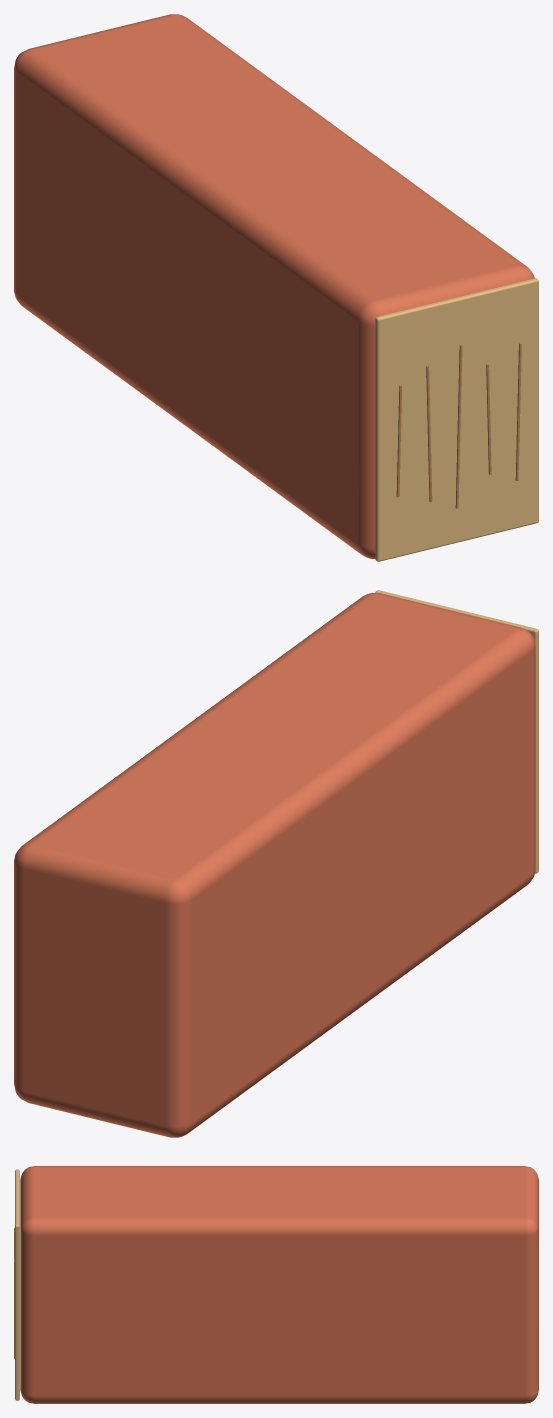
File: play-coral-block.glb
3 views of the same model, one above another, from view 1: azimuth 30°, elevation 25°; view 2: azimuth 150°, elevation 25°; view 3: azimuth 270°, elevation 25° (orthographic). The views are drawn at different scales.
Visible parts, largest first — view 1: Block_Painted_Body, Block_Wood_End; view 2: Block_Painted_Body, Block_Wood_End; view 3: Block_Painted_Body, Block_Wood_End.
Part boxes in pixels (x1,y1,x2,y2): Block_Painted_Body: (14,14,534,558); Block_Wood_End: (375,278,538,561); Block_Painted_Body: (14,593,535,1137); Block_Wood_End: (375,590,538,873); Block_Painted_Body: (20,1166,538,1403); Block_Wood_End: (15,1169,19,1400).
Bounding box in the file's own units: 0.052 × 0.073 × 0.1873.
